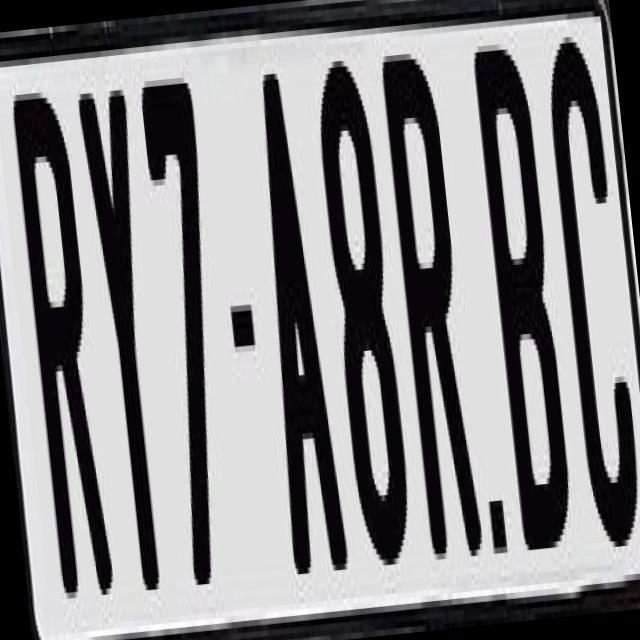7: (134, 76, 242, 608)
8: (310, 39, 425, 578)
A: (238, 66, 348, 604)
B: (469, 41, 573, 556)
C: (540, 17, 640, 566)
R: (374, 39, 490, 578), (9, 90, 119, 634)
Y: (77, 89, 183, 604)
